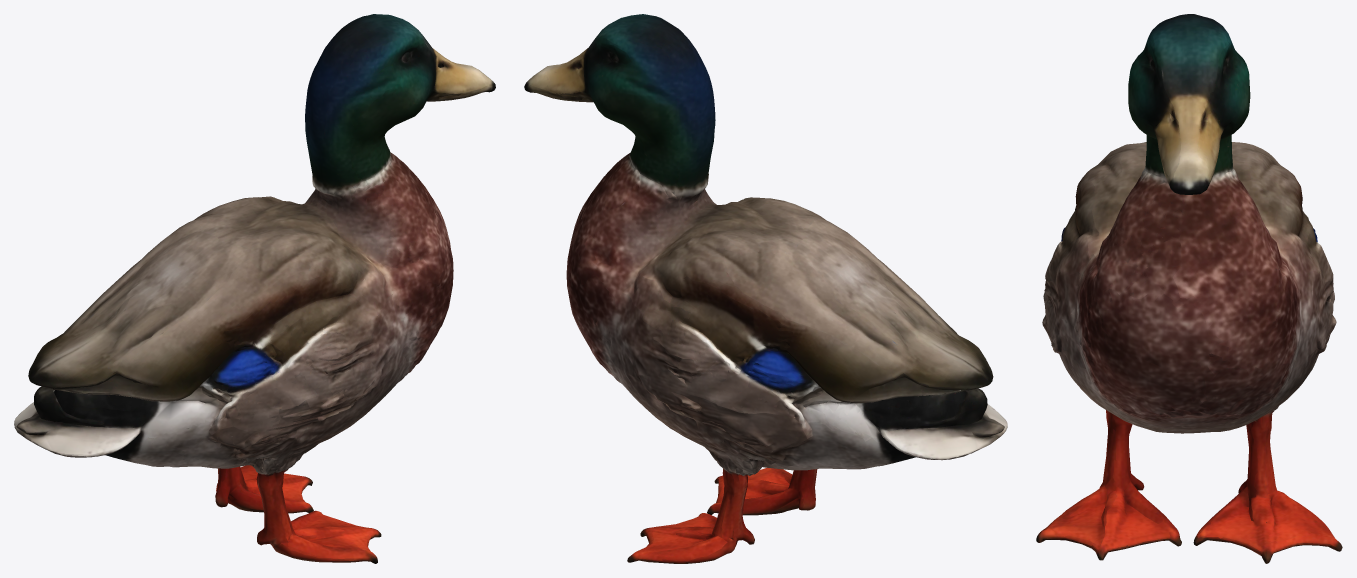
File: mallard-duck-v21-lod.glb
3 renders of one model, left to right at view 1: azimuth 30°, elevation 25°; view 2: azimuth 150°, elevation 25°; view 3: azimuth 270°, elevation 25°, orthographic. The views are drawn at different scales.
Parts seen in each view (by area): view 1: geometry_0; view 2: geometry_0; view 3: geometry_0.
Part boxes in pixels (x1=…): geometry_0: x1=14, y1=14, x2=495, y2=563; geometry_0: x1=524, y1=14, x2=1007, y2=563; geometry_0: x1=1036, y1=14, x2=1342, y2=563.
Bounding box in the file's own units: 0.5699 × 0.5541 × 0.2749.
Materials: 1 (1 with a texture image).
